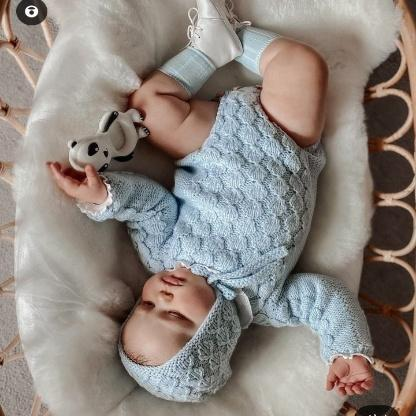baby: (46, 1, 375, 405)
